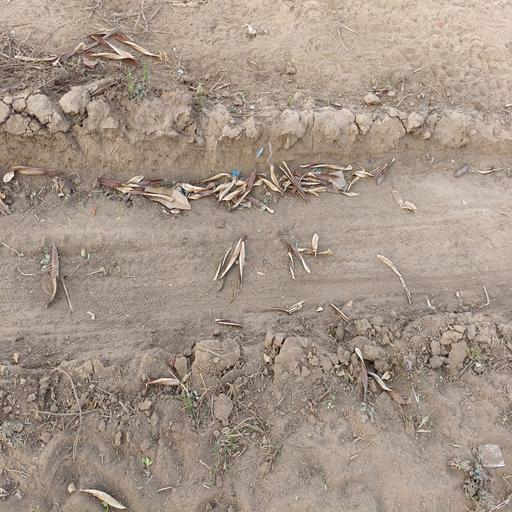vehicle_track: (0, 163, 512, 332)
